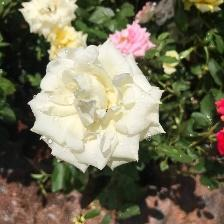rose: (26, 46, 166, 178)
